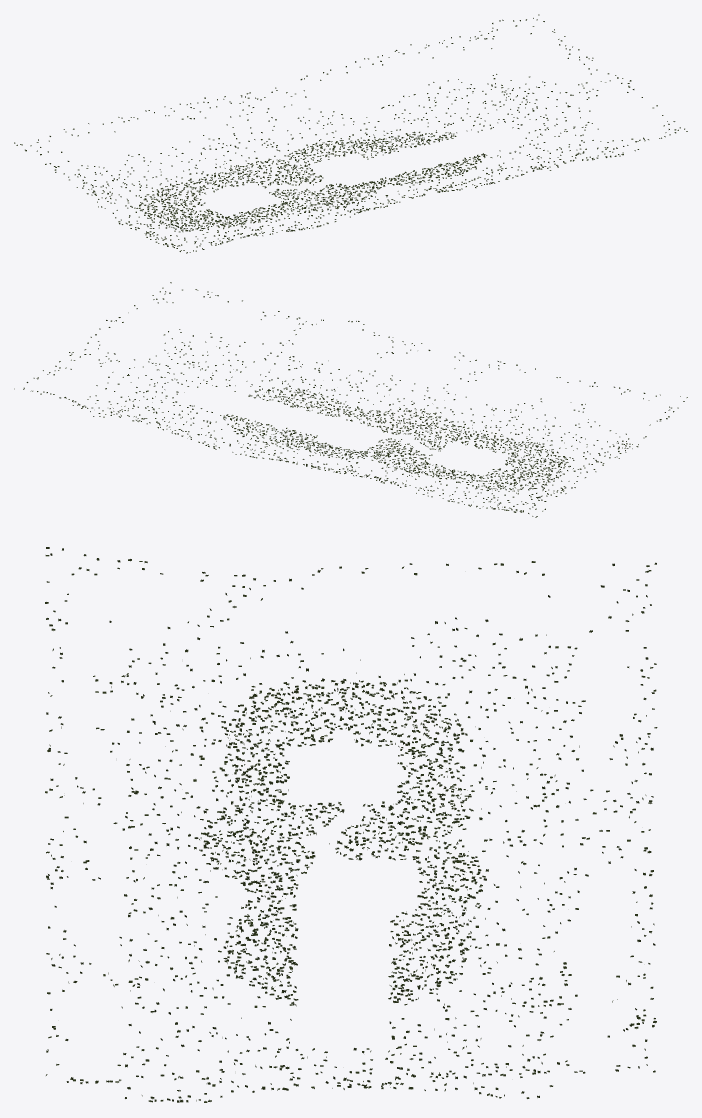
The model's file is SM_Art_Cover_L_EthansGrove_GrassBlades.gltf.
3 views of the same model, one above another, from view 1: azimuth 30°, elevation 25°; view 2: azimuth 150°, elevation 25°; view 3: azimuth 270°, elevation 25° (orthographic). The views are drawn at different scales.
Visible parts, largest first — view 1: SM_Art_Cover_L_EthansGrove_GrassBlades; view 2: SM_Art_Cover_L_EthansGrove_GrassBlades; view 3: SM_Art_Cover_L_EthansGrove_GrassBlades.
Part boxes in pixels (bbox=[...]): SM_Art_Cover_L_EthansGrove_GrassBlades: bbox=[14, 14, 687, 253]; SM_Art_Cover_L_EthansGrove_GrassBlades: bbox=[14, 282, 687, 517]; SM_Art_Cover_L_EthansGrove_GrassBlades: bbox=[45, 547, 657, 1102].
Bounding box in the file's own units: 301 × 26.61 × 153.
1 material, 1 textured.
